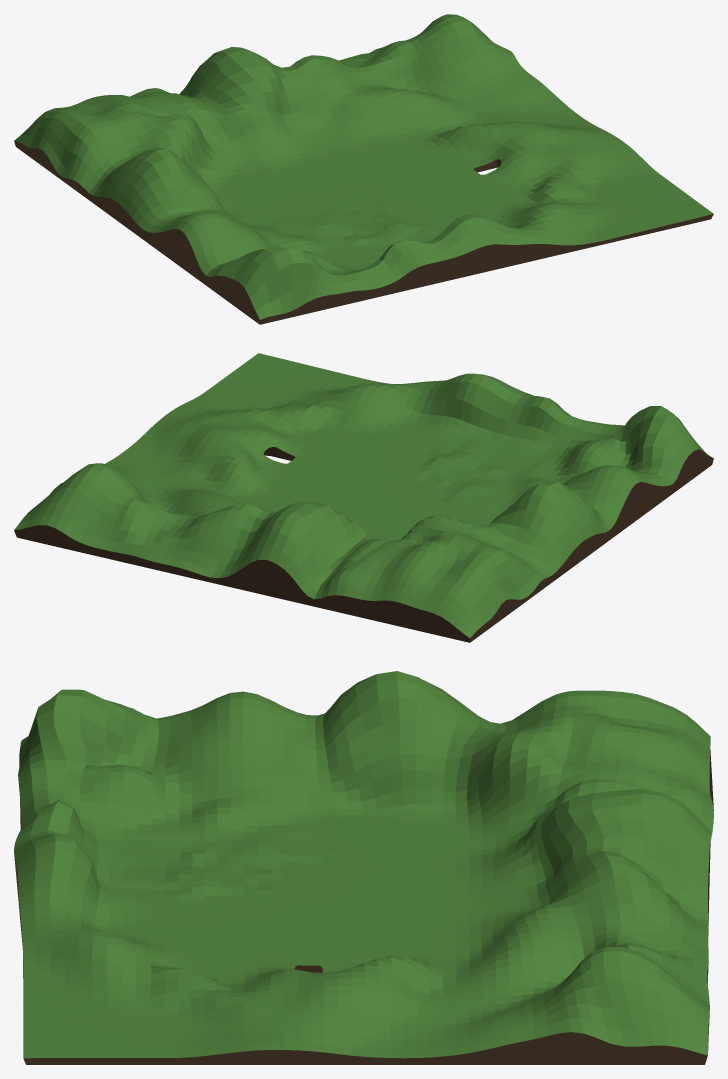
The model's file is Ground.fbx.
3 views of the same model, one above another, from view 1: azimuth 30°, elevation 25°; view 2: azimuth 150°, elevation 25°; view 3: azimuth 270°, elevation 25° (orthographic). The views are drawn at different scales.
Parts seen in each view (by area): view 1: Ground; view 2: Ground; view 3: Ground.
Part boxes in pixels (left/top/right/bottom): Ground: left=14, top=14, right=713, bottom=324; Ground: left=14, top=353, right=713, bottom=642; Ground: left=14, top=671, right=713, bottom=1064.
Bounding box in the file's own units: 16788 × 2596 × 15695.
